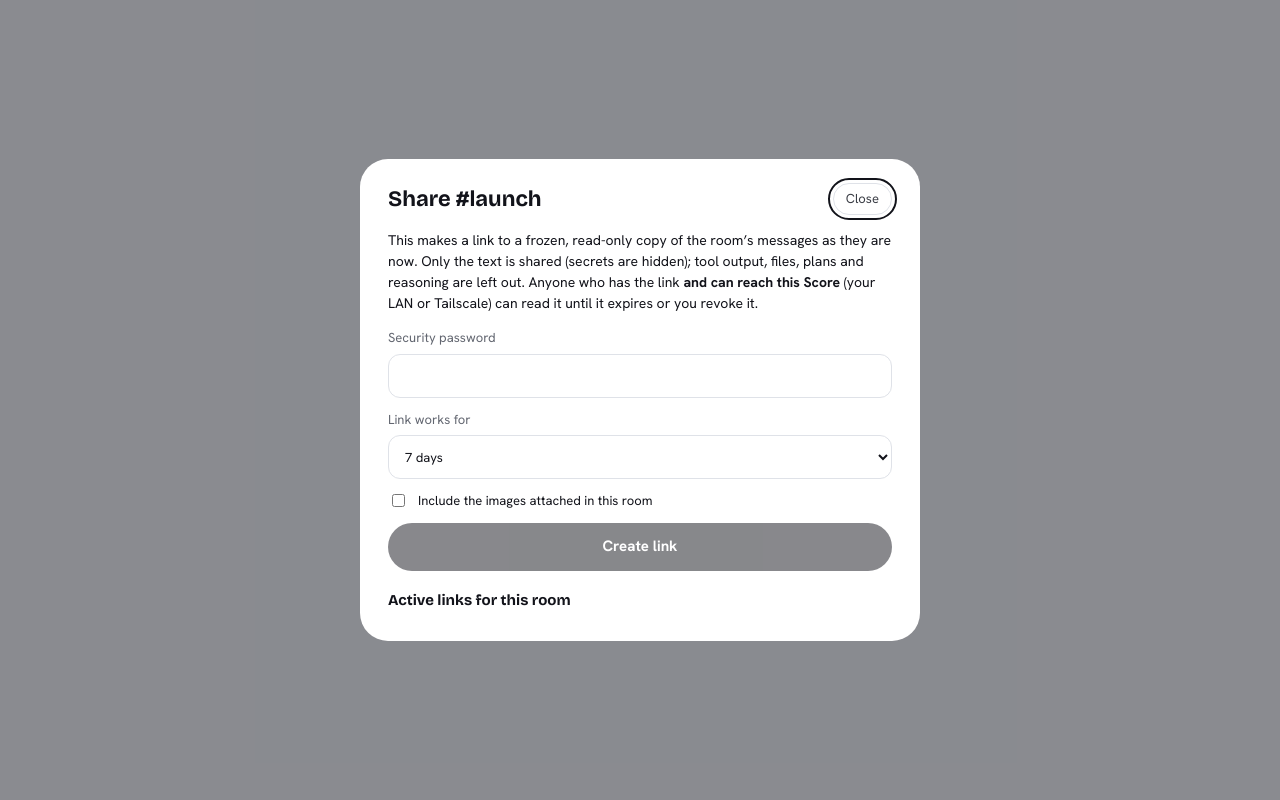
Test case: says who can read the link, then creates it with the password, expiry and image choice
Check: the text "and can reach this Score" is shown, box [684,273,840,291]
Check: the button "Create link" is disabled, box [388,522,892,570]
Step 1. Type "correct horse" into the password field labelled "Security password" → (640, 376), box [388,354,892,398]
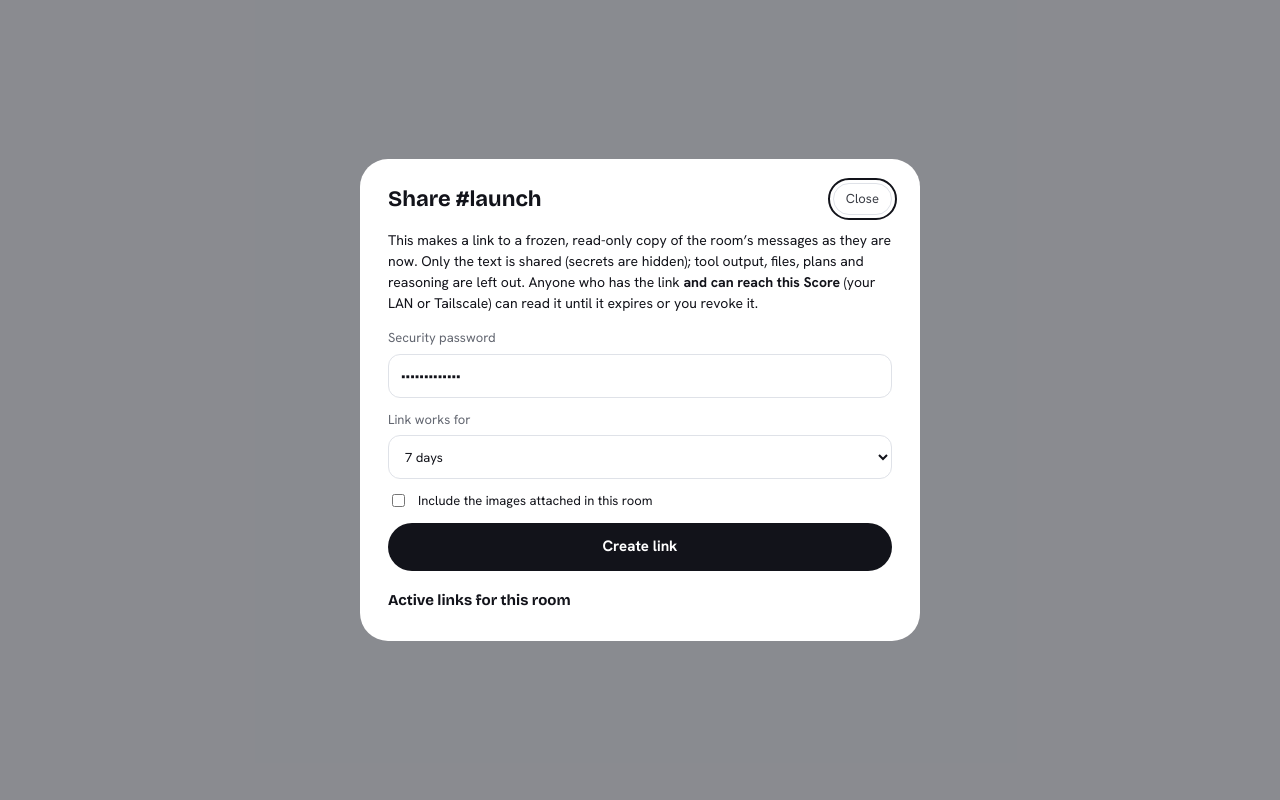
Step 2. Select "3 days" in the dropdown labelled "Link works for" → (640, 457), box [388,435,892,479]
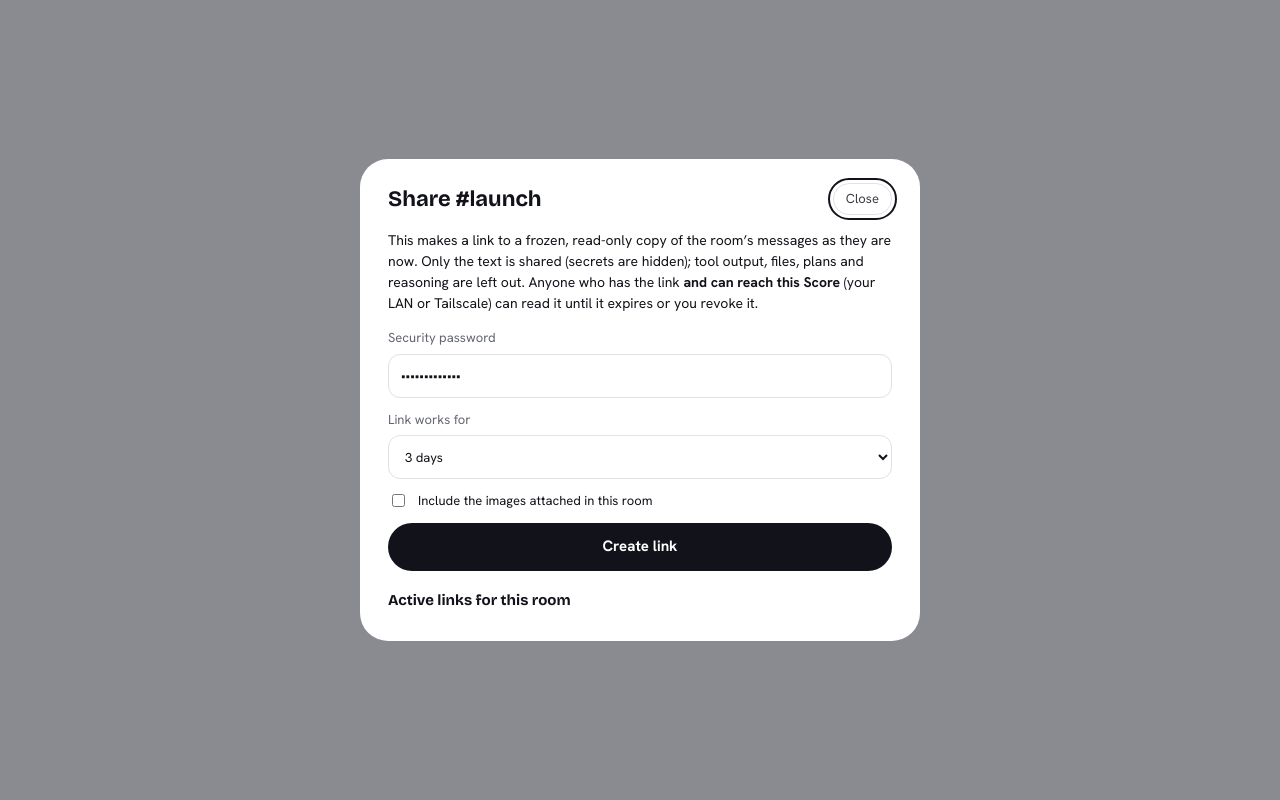
Step 3. Click the checkbox labelled "Include the images attached in this room" → (398, 501), box [392,494,405,507]
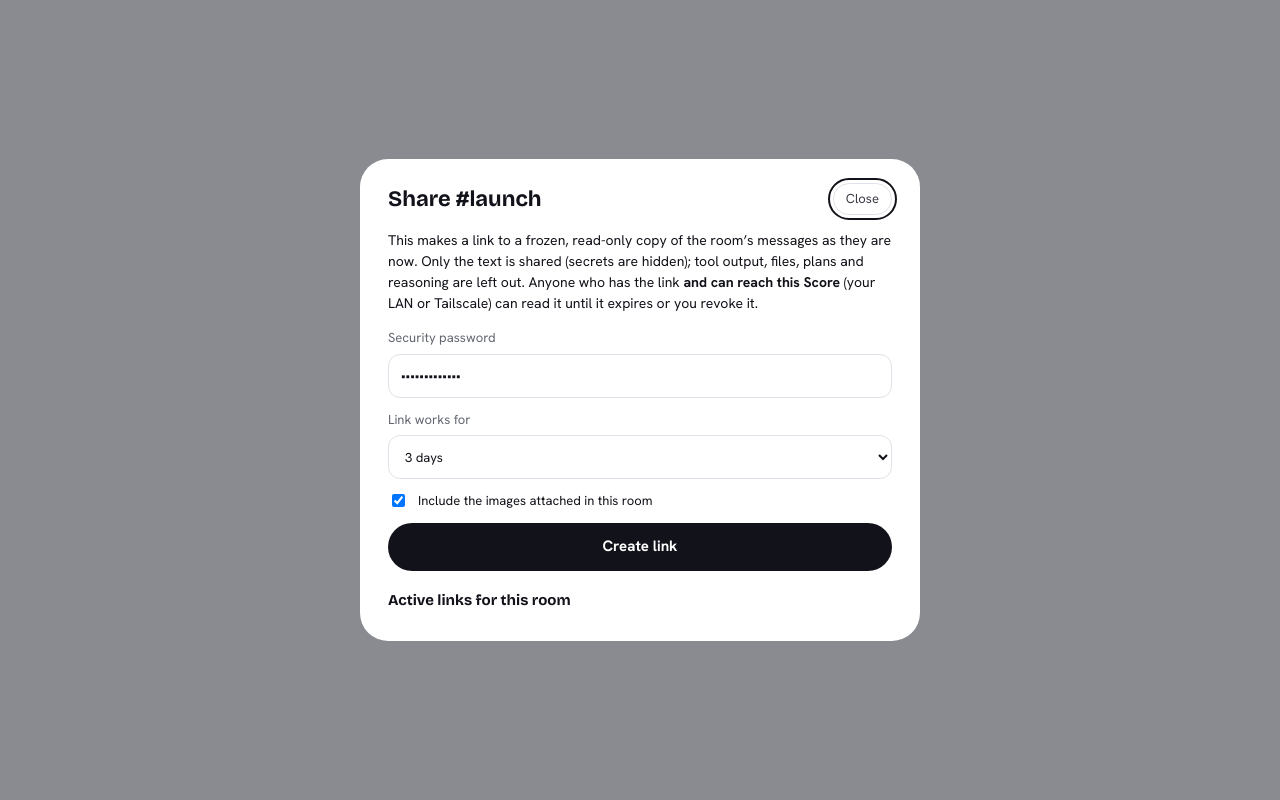
Step 4. Click the button "Create link" → (640, 546), box [388,522,892,570]
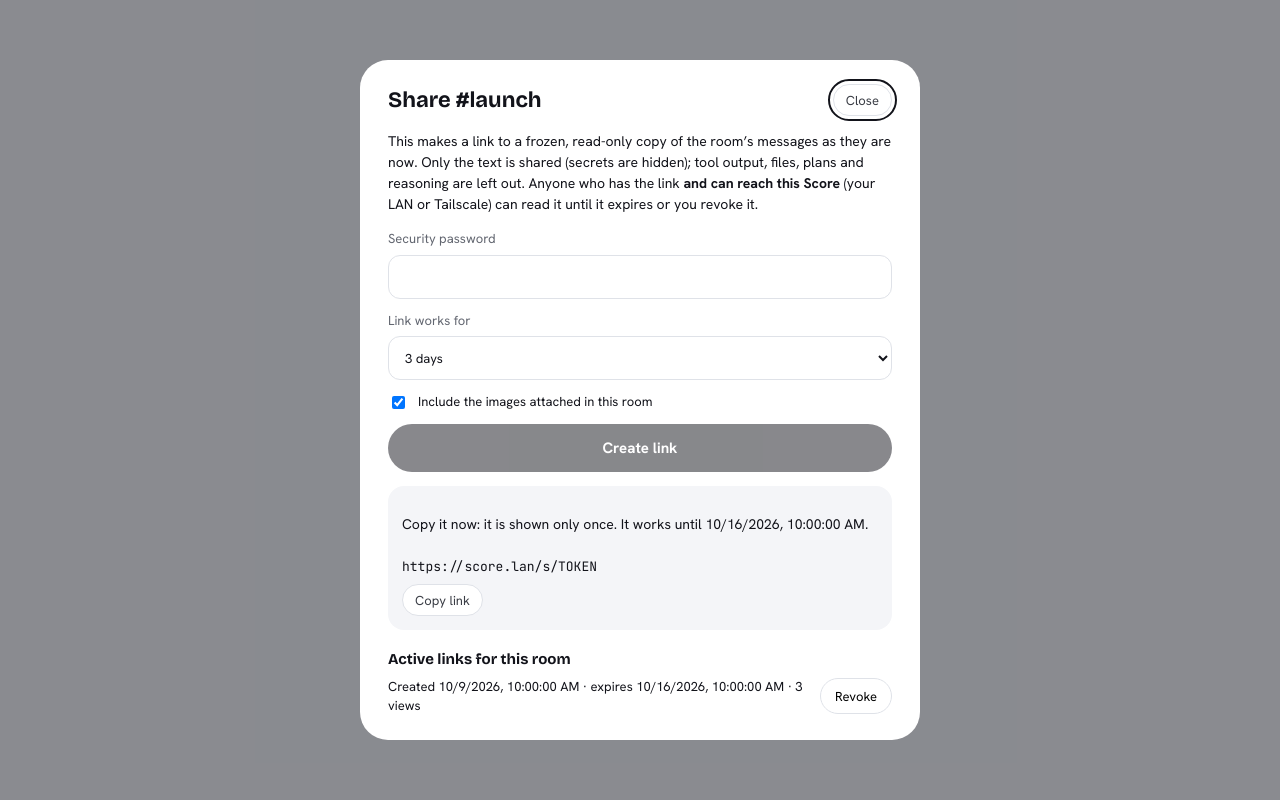
Check: the text "https://score.lan/s/TOKEN" is shown, box [402,558,597,575]
Check: the password field labelled "Security password" is empty, box [388,255,892,299]
